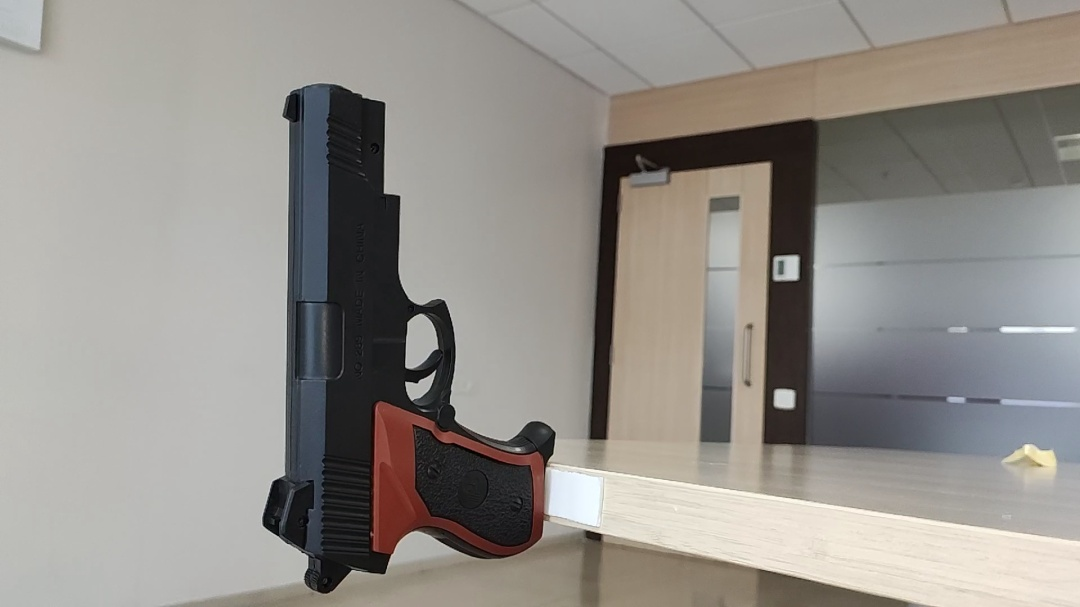gun: (374, 248, 414, 269)
